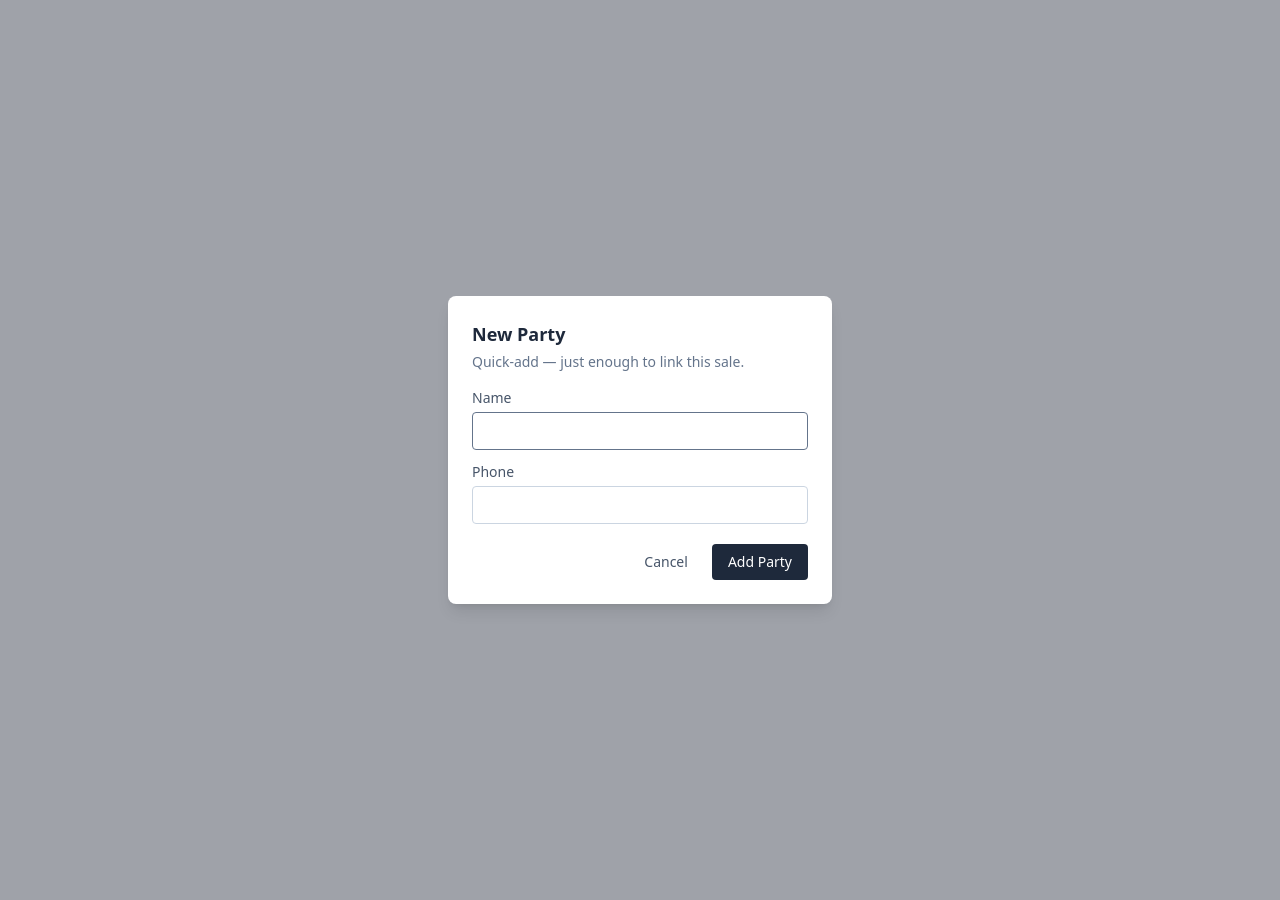
QuickAddPartyModal › blocks submit with an inline error when name or phone is blank
What coordinates should you click on to do the following:
click the button "Add Party"
I would click on:
 (760, 562)
Its box is [712,544,808,580].
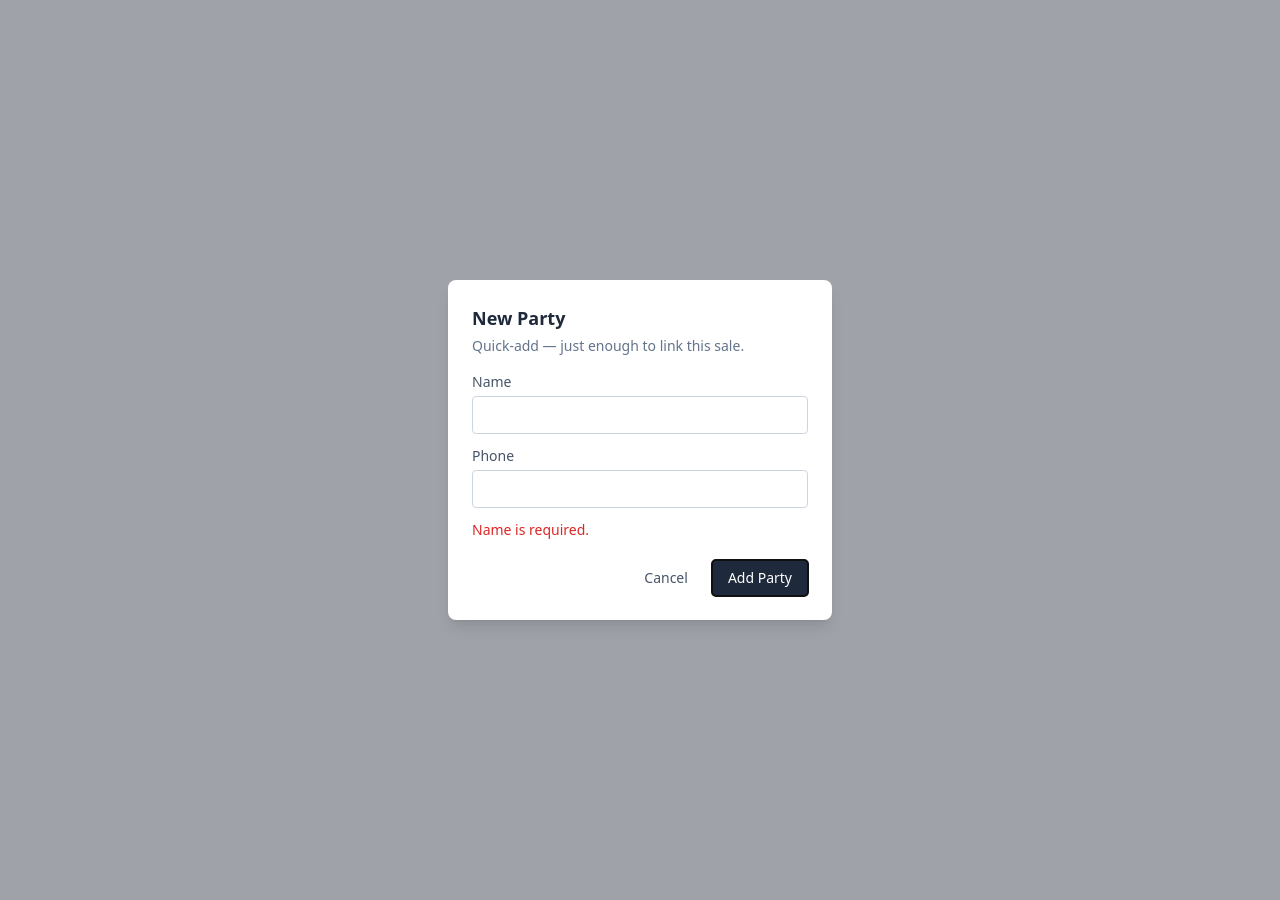
Expected: the message shows "Name is required", [472,520,589,539]
